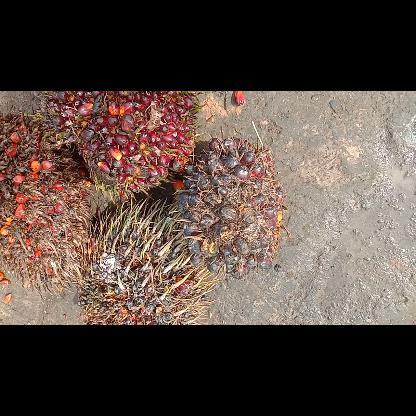TBS abnormal: (75, 200, 213, 324)
TBS masak: (35, 90, 196, 198)
TBS mentah: (169, 136, 285, 276)
Terlalu masak: (0, 110, 92, 290)
